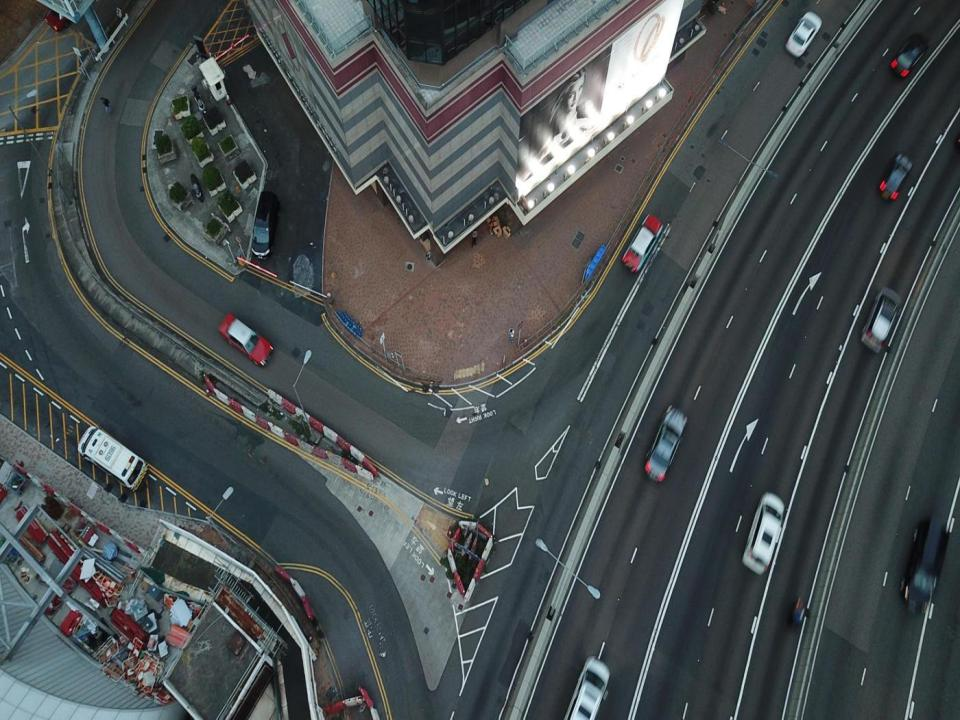car: (742, 492, 784, 574), (645, 404, 688, 484), (217, 313, 275, 368), (562, 656, 612, 719), (862, 288, 901, 352), (622, 216, 663, 274), (890, 33, 930, 78), (878, 151, 913, 202), (785, 12, 822, 57), (45, 3, 80, 31)
van: (900, 517, 948, 615), (77, 425, 149, 490), (250, 190, 280, 259), (507, 325, 516, 344), (470, 228, 477, 248)
